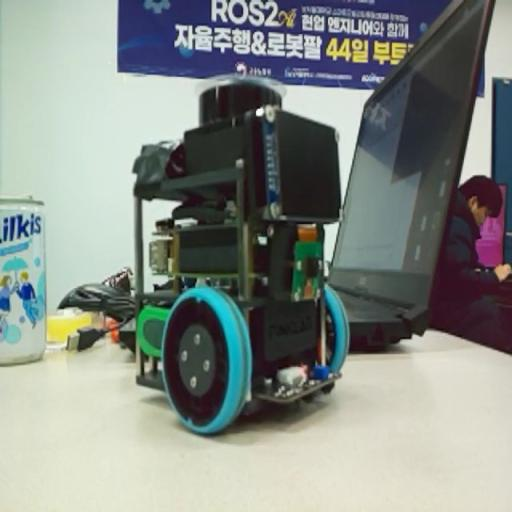pinky_63: (132, 70, 350, 436)
